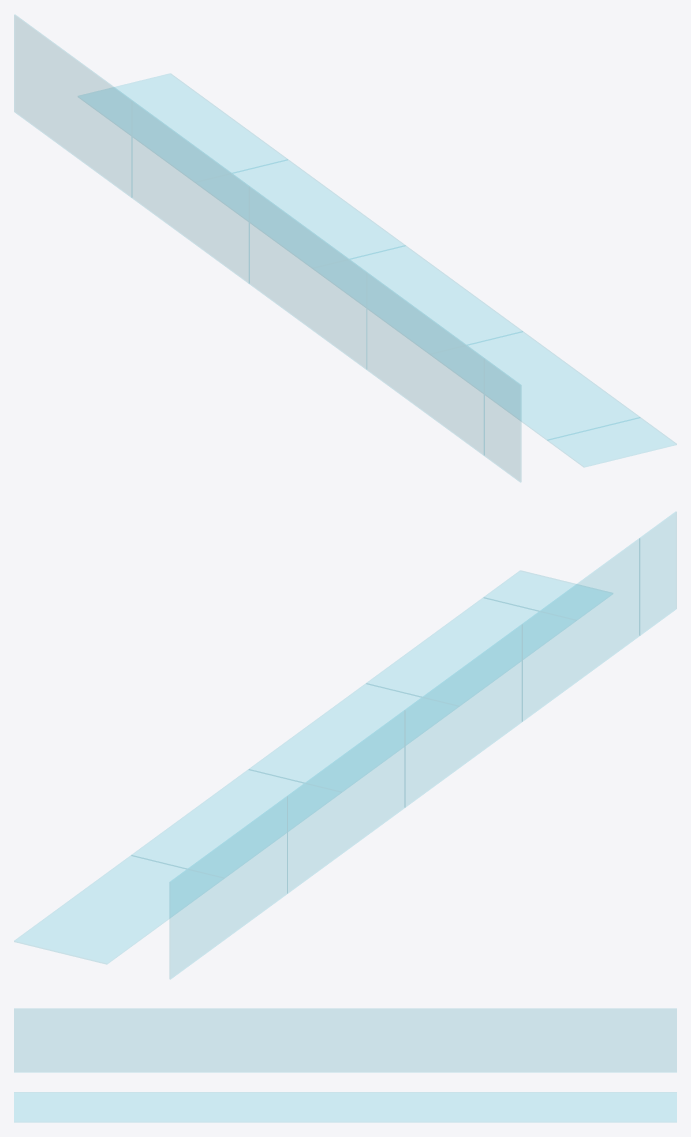
The picture shows the model from 3 angles, top to bottom: view 1: azimuth 30°, elevation 25°; view 2: azimuth 150°, elevation 25°; view 3: azimuth 270°, elevation 25°; orthographic projection. The views are drawn at different scales.
Parts seen in each view (by area): view 1: 0_3_1_1_1_2_1_3; view 2: 0_3_1_1_1_2_1_3; view 3: 0_3_1_1_1_2_1_3.
Part boxes in pixels (x1,y1,x2,y2): 0_3_1_1_1_2_1_3: (14,15,676,481); 0_3_1_1_1_2_1_3: (14,512,676,978); 0_3_1_1_1_2_1_3: (14,1009,676,1121).
Bounding box in the file's own units: 3.08 × 1.84 × 17.25.
